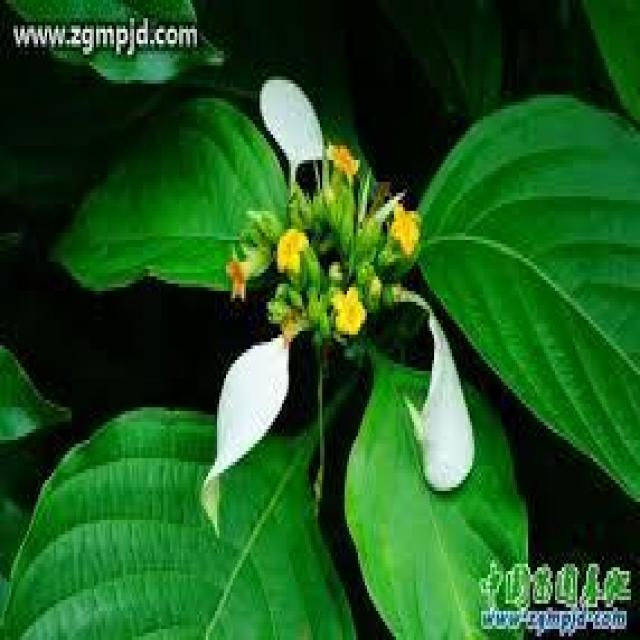organic waste: (180, 47, 489, 520)
